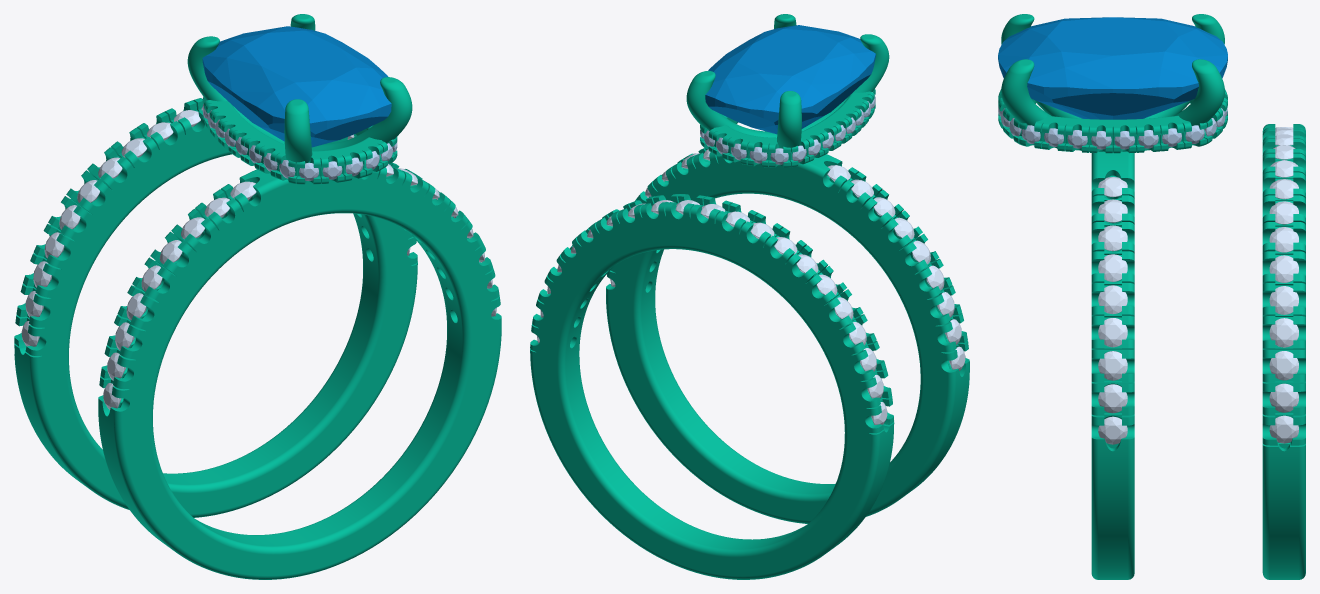
3 renders of one model, left to right at view 1: azimuth 30°, elevation 25°; view 2: azimuth 150°, elevation 25°; view 3: azimuth 270°, elevation 25°, orthographic. The views are drawn at different scales.
Parts seen in each view (by area): view 1: VR-92 (3)(front).3dm, Diamond_Cushion Square; view 2: VR-92 (3)(front).3dm, Diamond_Cushion Square; view 3: VR-92 (3)(front).3dm, Diamond_Cushion Square, Diamond_Round (×18).
Boxes of the visible parts, x1=… form: VR-92 (3)(front).3dm: x1=14, y1=14, x2=501, y2=579; Diamond_Cushion Square: x1=202, y1=26, x2=391, y2=147; VR-92 (3)(front).3dm: x1=530, y1=14, x2=969, y2=579; Diamond_Cushion Square: x1=705, y1=25, x2=875, y2=134; VR-92 (3)(front).3dm: x1=998, y1=14, x2=1305, y2=579; Diamond_Cushion Square: x1=998, y1=17, x2=1227, y2=119; Diamond_Round (×18): x1=1098, y1=177, x2=1298, y2=444.
Size of the model in its own units: 2.29 by 2.89 by 1.55.
